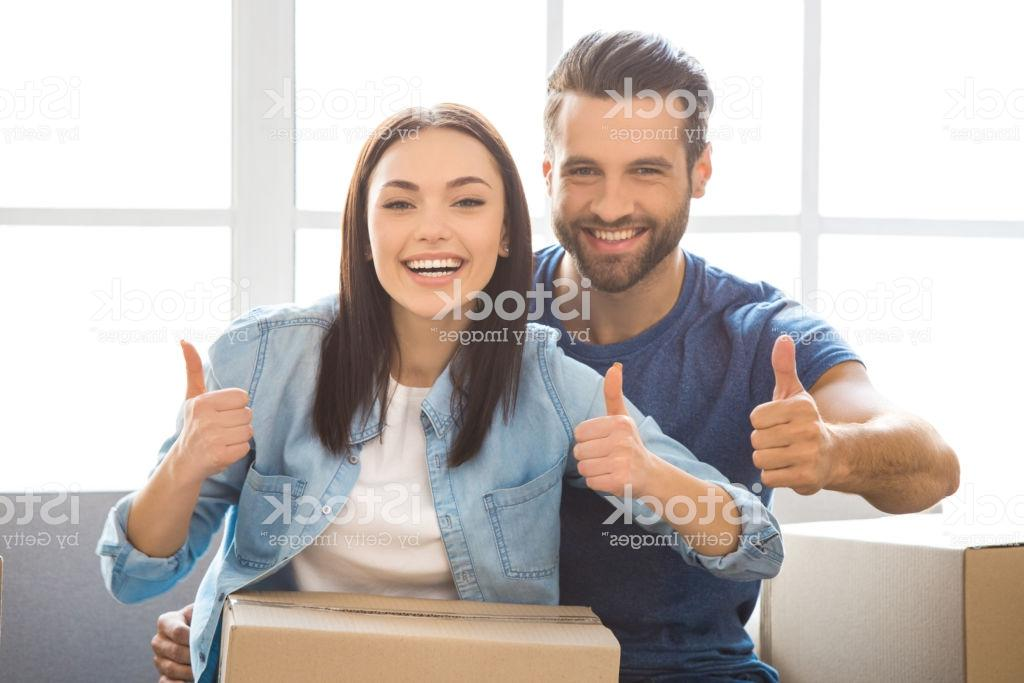thumbsup: (748, 334, 828, 497), (178, 337, 256, 469), (570, 359, 643, 499)
